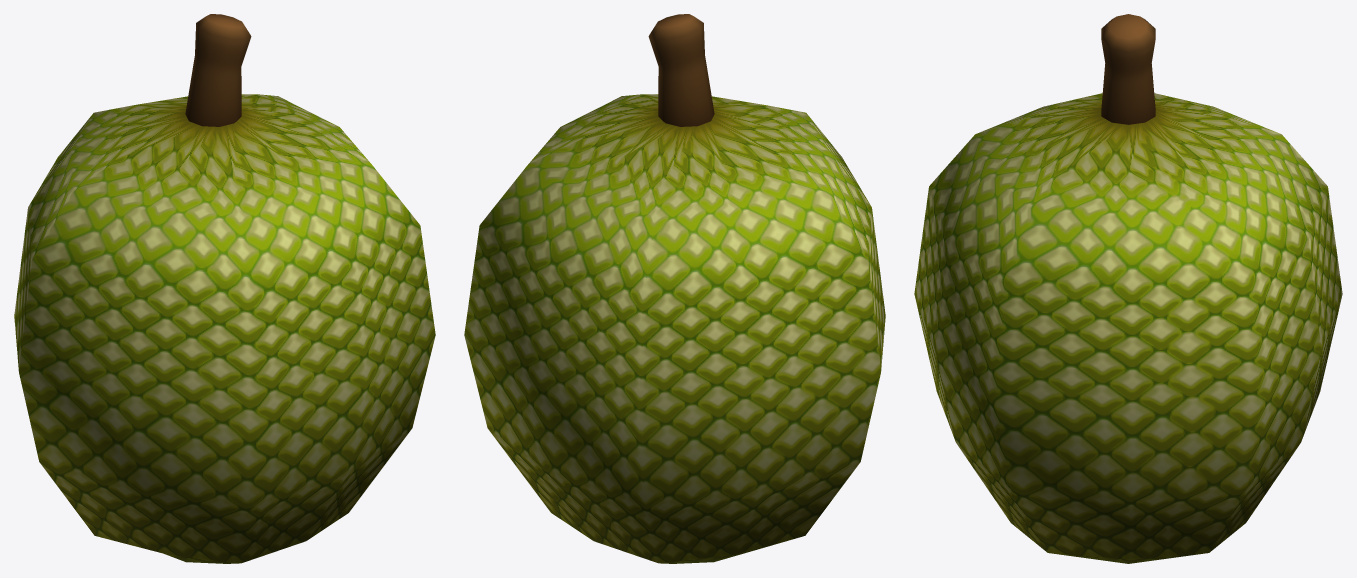
File: Jackfruit.fbx
3 renders of one model, left to right at view 1: azimuth 30°, elevation 25°; view 2: azimuth 150°, elevation 25°; view 3: azimuth 270°, elevation 25°, orthographic.
Parts seen in each view (by area): view 1: Jackfruit; view 2: Jackfruit; view 3: Jackfruit.
Boxes of the visible parts, x1,y1,x2,y2 form: Jackfruit: [14, 14, 435, 563]; Jackfruit: [464, 14, 885, 563]; Jackfruit: [914, 14, 1342, 563].
Bounding box in the file's own units: 58.09 × 79.1 × 57.87.
1 material, 1 textured.
